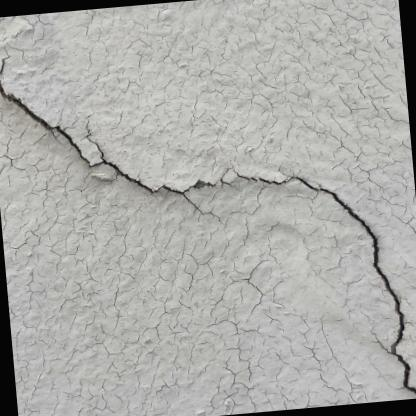crack: (238, 171, 416, 399), (0, 74, 217, 196)
